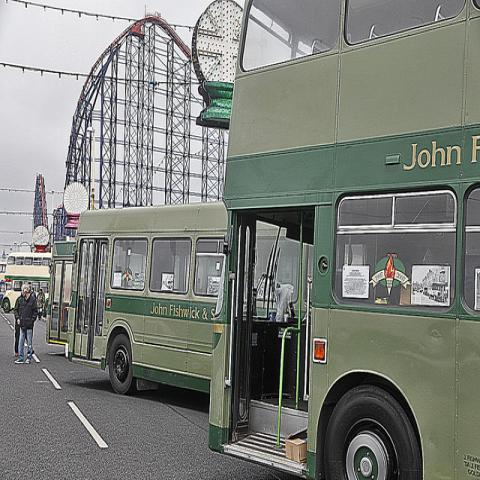bus: (207, 0, 479, 476), (62, 196, 231, 398), (2, 251, 52, 313), (44, 241, 72, 346)
